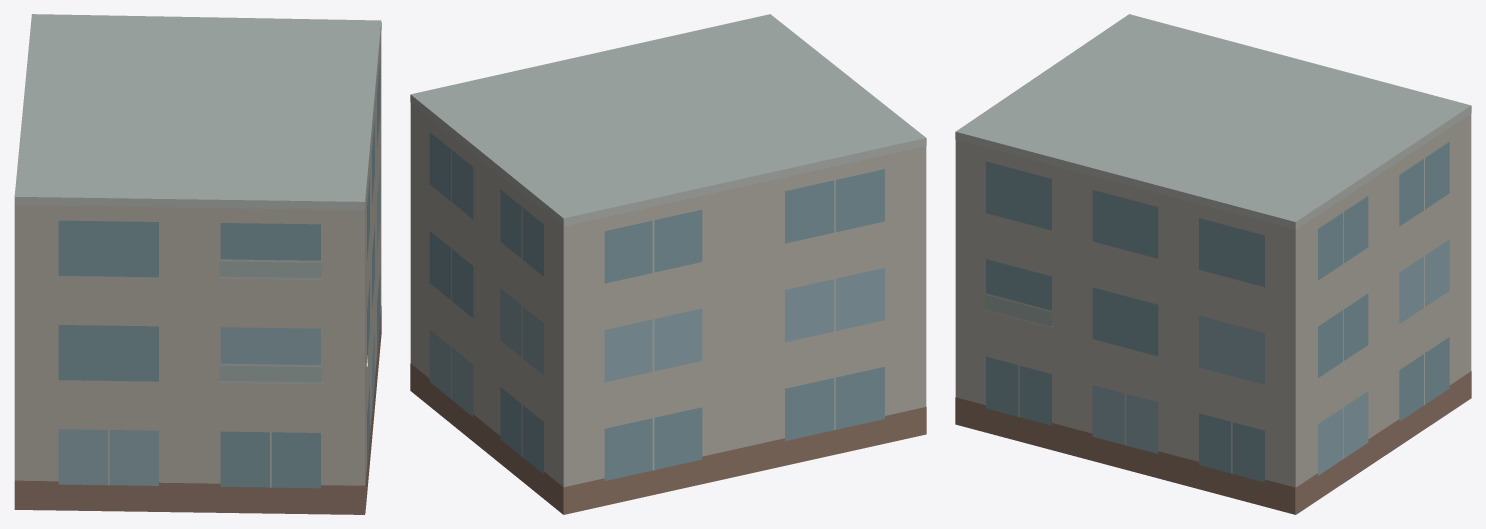
Rendered from survey-upis-32700601.glb.
3 views of the same model, side by side, from view 1: azimuth 30°, elevation 25°; view 2: azimuth 150°, elevation 25°; view 3: azimuth 270°, elevation 25° (orthographic). The views are drawn at different scales.
Parts seen in each view (by area): view 1: survey-upis-32700601.tmp; view 2: survey-upis-32700601.tmp; view 3: survey-upis-32700601.tmp.
Part boxes in pixels (<box>): survey-upis-32700601.tmp: <box>14,14,381,514</box>; survey-upis-32700601.tmp: <box>410,14,926,514</box>; survey-upis-32700601.tmp: <box>955,14,1471,514</box>.
Size of the model in its own units: 13.88 by 9.1 by 14.54.
